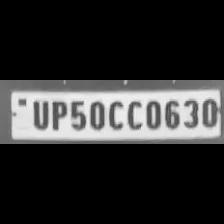0: (86, 97, 106, 130), (142, 98, 162, 130), (199, 96, 219, 128)
3: (181, 97, 199, 129)
5: (66, 99, 86, 131)
6: (162, 98, 180, 130)
C: (105, 97, 124, 130), (124, 98, 142, 130)
P: (48, 99, 68, 131)
U: (28, 98, 50, 130)
